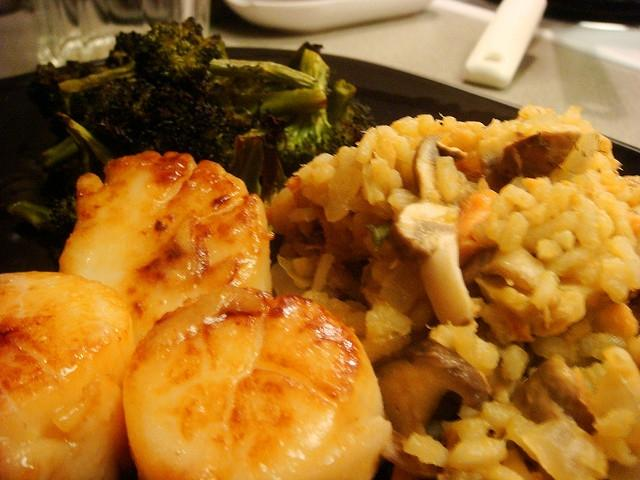broccoli: (83, 76, 249, 172), (6, 194, 77, 272)
mushroom: (390, 200, 482, 327), (372, 339, 488, 438), (482, 131, 580, 194), (276, 253, 366, 306), (461, 245, 546, 293), (412, 134, 448, 206), (388, 258, 425, 300)
